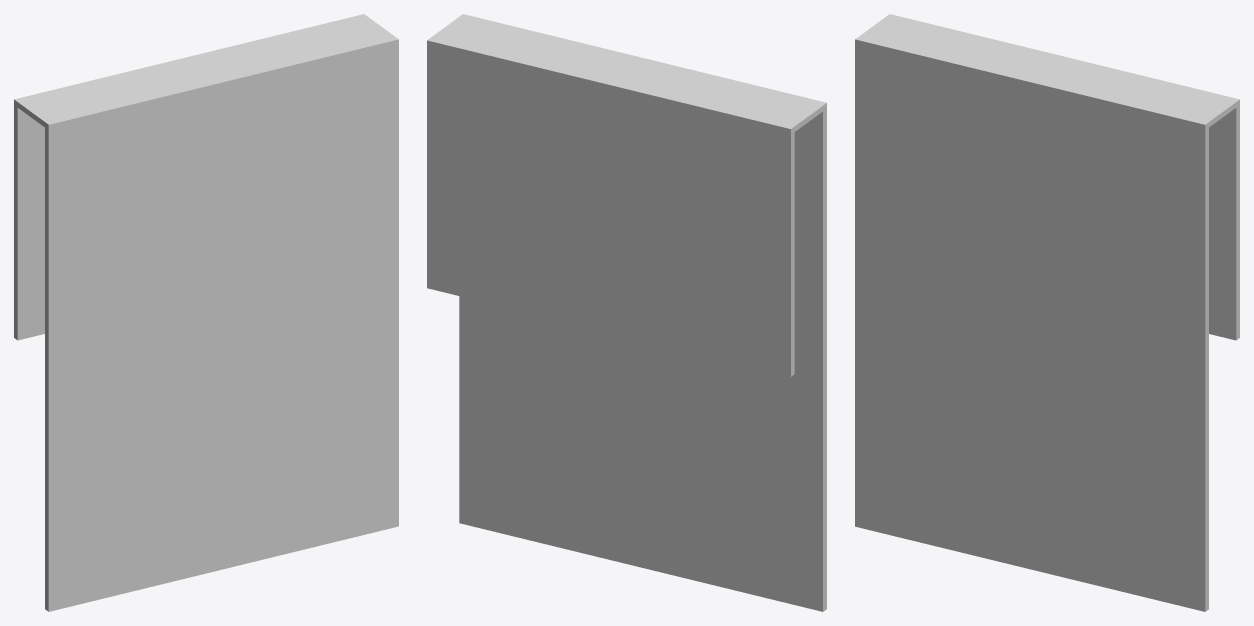
File: Itr_Towel_06.FBX
The picture shows the model from 3 angles, left to right: view 1: azimuth 30°, elevation 25°; view 2: azimuth 150°, elevation 25°; view 3: azimuth 330°, elevation 25°; orthographic projection. The views are drawn at different scales.
Visible parts, largest first — view 1: Itr_Towel_06; view 2: Itr_Towel_06; view 3: Itr_Towel_06.
Boxes of the visible parts, <box> form: Itr_Towel_06: <box>14,14,398,611</box>; Itr_Towel_06: <box>427,14,826,611</box>; Itr_Towel_06: <box>855,14,1239,611</box>.
Size of the model in its own units: 17.26 by 22.96 by 2.97.
